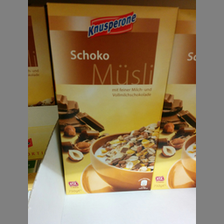cereal: (47, 2, 180, 196)
